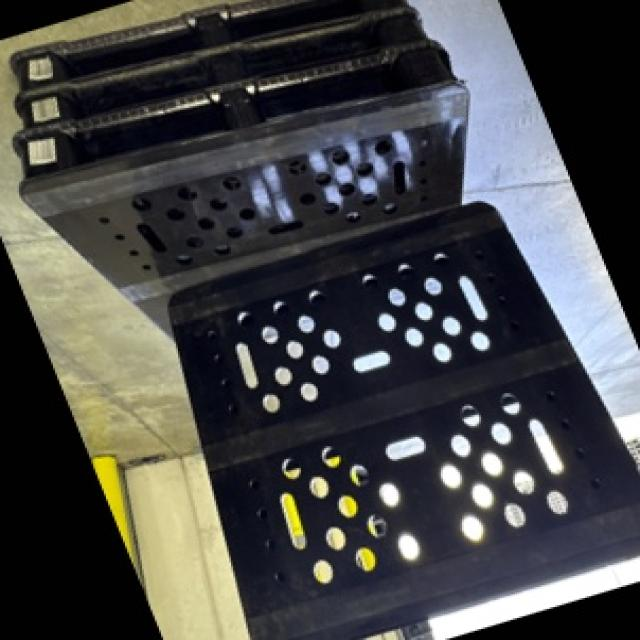igps: (157, 194, 640, 640), (0, 0, 476, 344)
